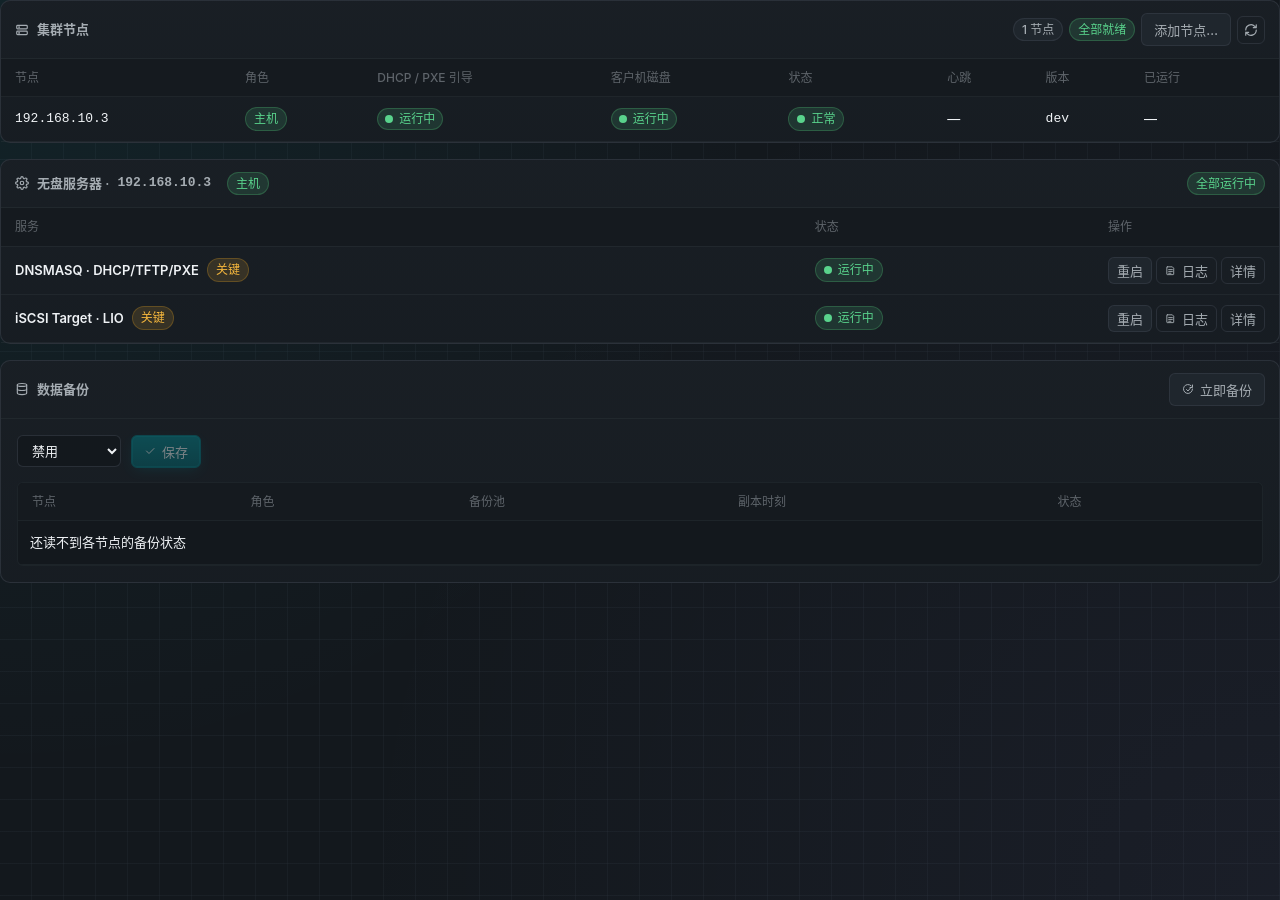
it: 能力视角 › 要排障时展开才看到单元、开机自启这些实现细节
Click the button with aria-label "展开详情": (1243, 318) top-left (1221, 305), bottom-right (1265, 332)
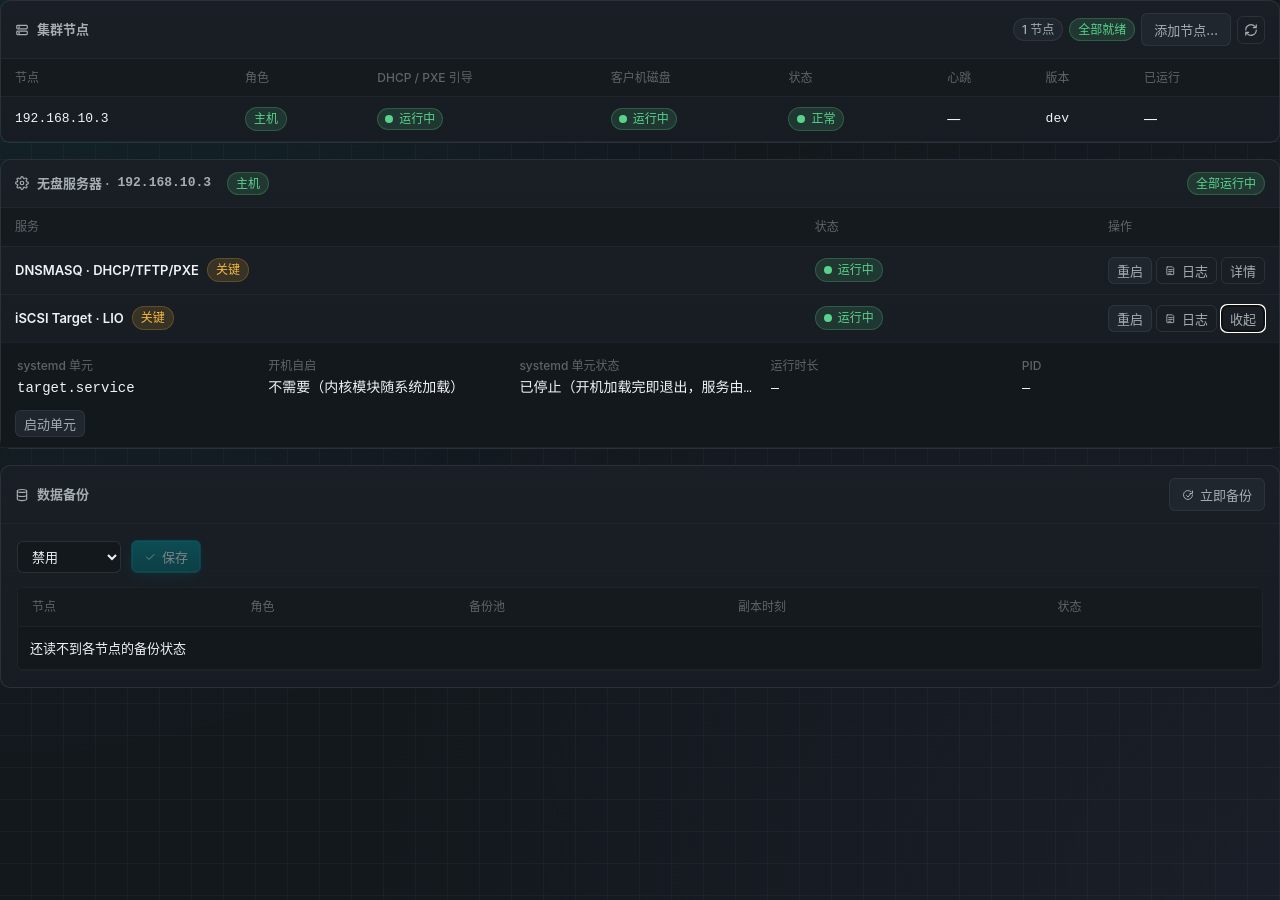
Expected: the text "target.service" is shown, top-left (17, 380), bottom-right (135, 396)
Expected: the text "开机自启" is shown, top-left (268, 358), bottom-right (316, 373)
